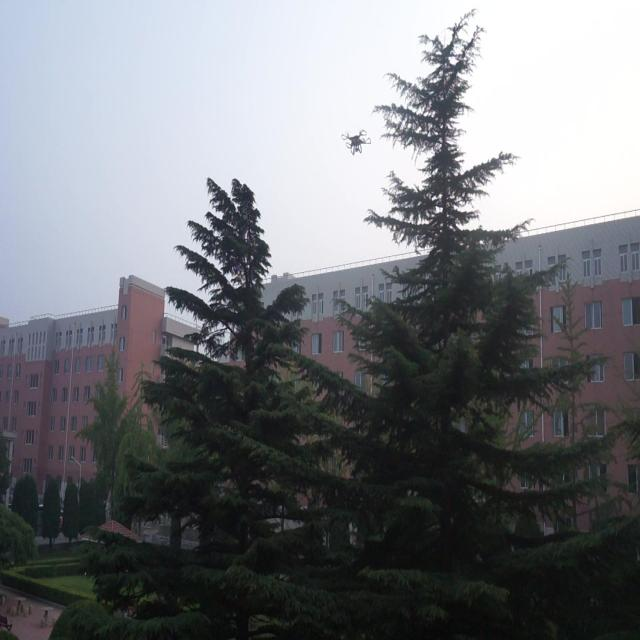drone: (339, 126, 373, 162)
